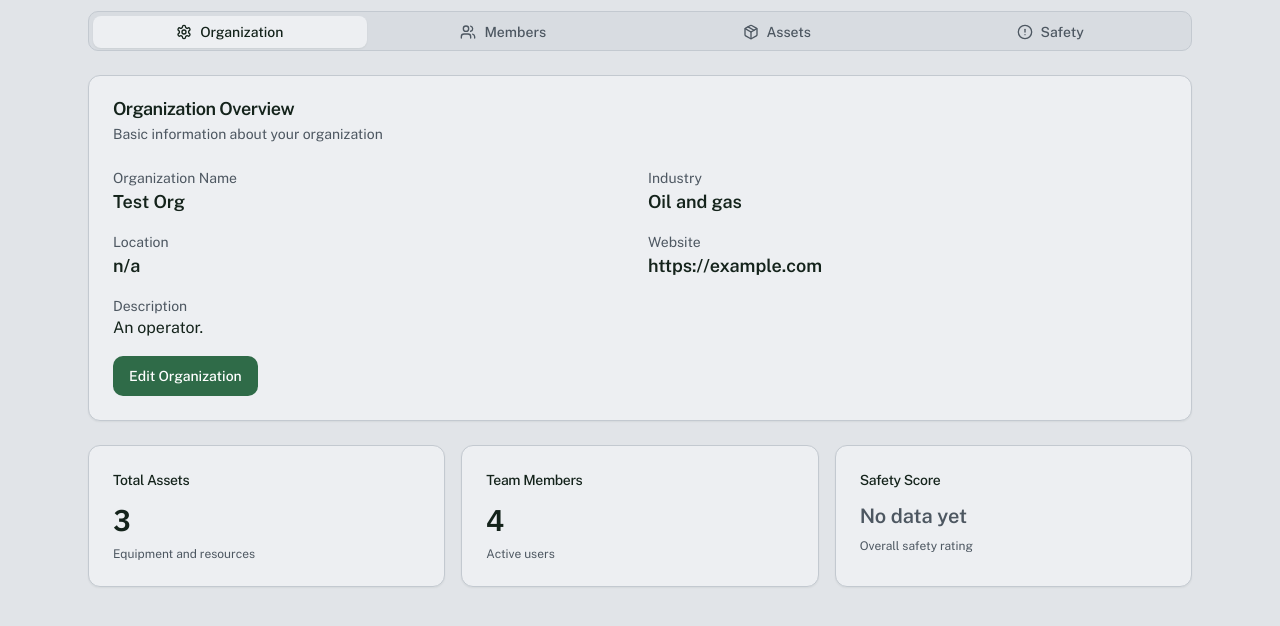
Test case: /organization on the design system (batch 1C, AccountScope) › Assets tab: status badges carry the word, and the asset form and delete dialog are themed
The width and height of the screenshot is (1280, 626).
Check: the heading "Organization Overview" is shown, box [113,98,294,118]
Press the mouse on the tab "Assets": [777, 32] box [640,16,914,48]
Press the mouse on the tab "Assets": [777, 32] box [640,16,914,48]
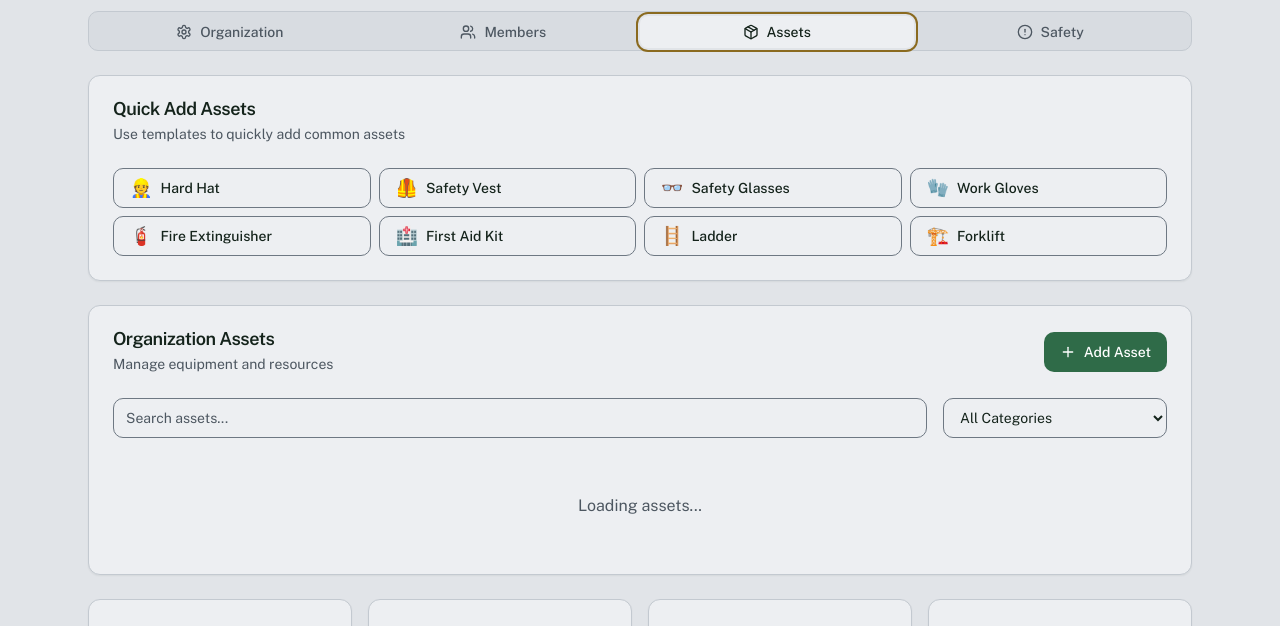
Click the tab "Assets": [777, 32] box [640,16,914,48]
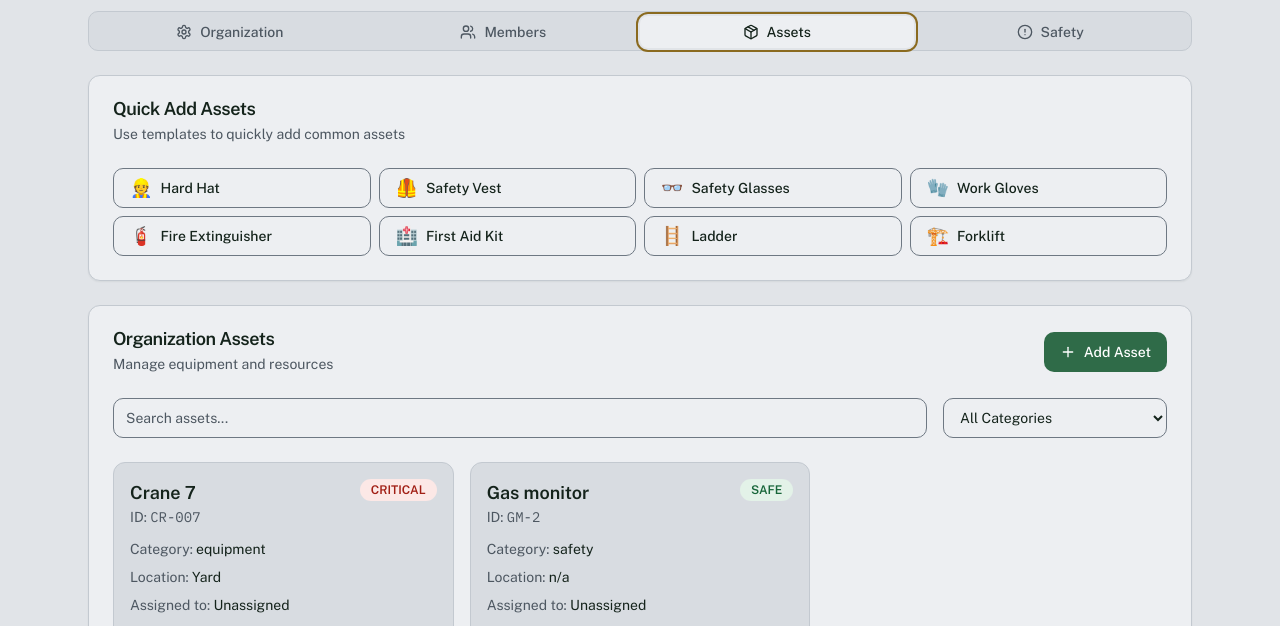
Check: the heading "Crane 7" is shown, box [130,478,200,506]
Check: the text "CRITICAL" is shown, box [360,478,437,500]
Check: the text "SAFE" is shown, box [740,478,793,500]
Press the mouse on the button "Add Asset": [1105, 352] box [1044,332,1167,372]
Click the button "Add Asset": [1105, 352] box [1044,332,1167,372]
(page scrolled)
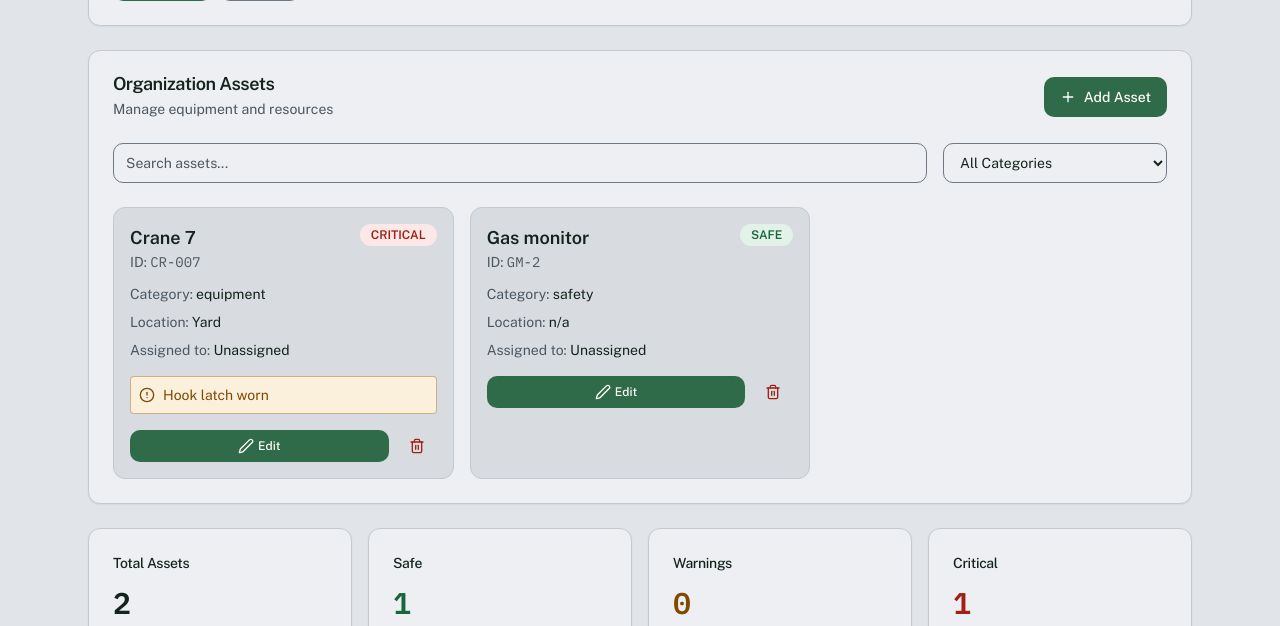
Press the mouse on the button named "Delete Crane 7": [417, 446] box [397,430,437,462]
Click the button named "Delete Crane 7": [417, 446] box [397,430,437,462]
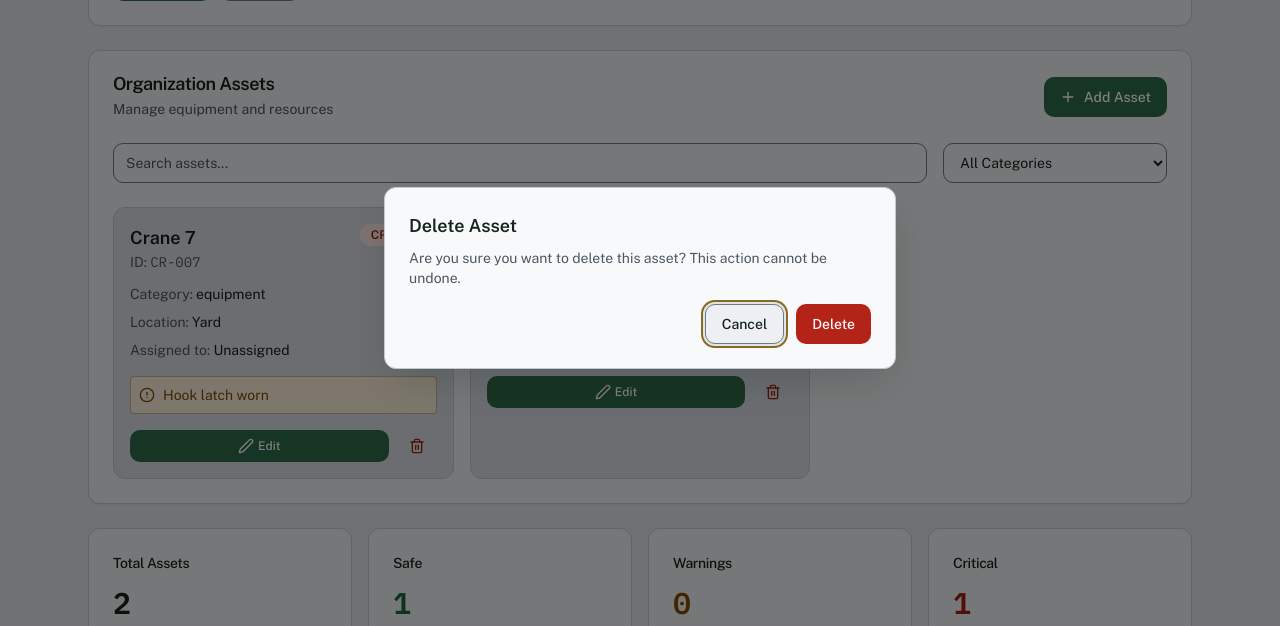
Check: the dialog is shown, box [384,187,896,369]
